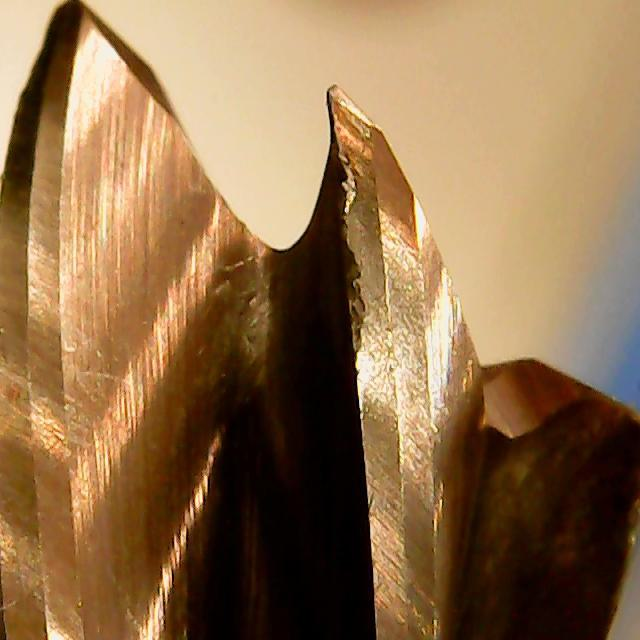Tool-wear-class-1: (294, 78, 465, 362)
